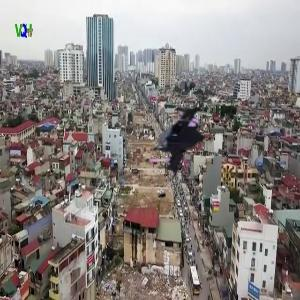drone: (131, 89, 234, 192)
